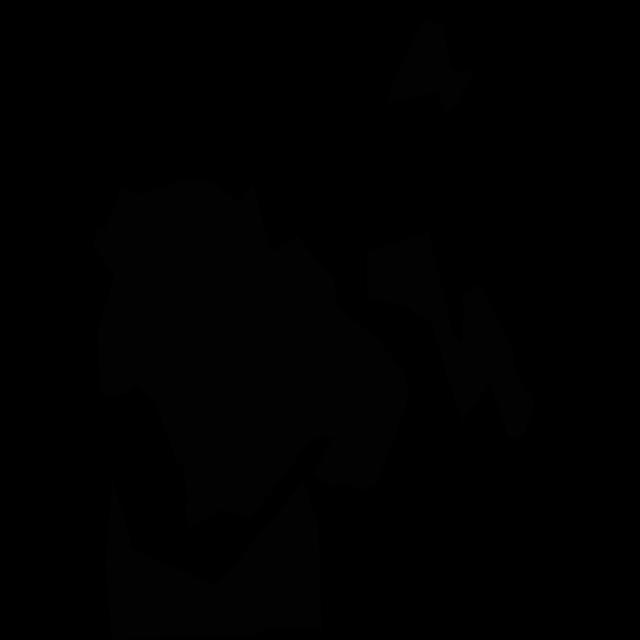cardboard: (93, 177, 409, 529), (366, 232, 535, 440), (105, 479, 322, 639), (388, 20, 476, 112)
